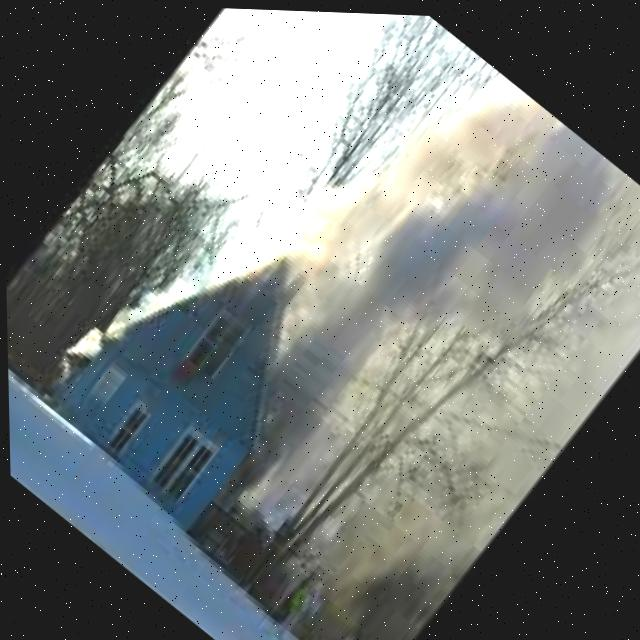Smoke: (149, 22, 640, 627)
